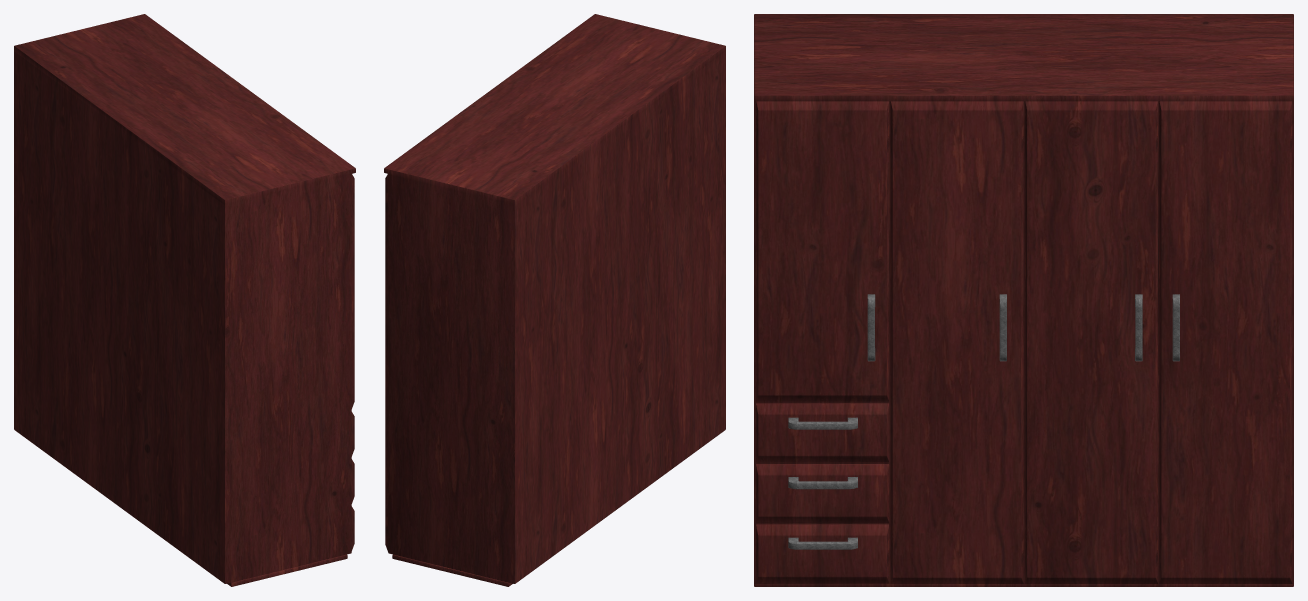
The model's file is closet.fbx.
The picture shows the model from 3 angles, left to right: view 1: azimuth 30°, elevation 25°; view 2: azimuth 150°, elevation 25°; view 3: azimuth 270°, elevation 25°; orthographic projection. The views are drawn at different scales.
Visible parts, largest first — view 1: Closet001; view 2: Closet001; view 3: Closet001, Closet001.001.
Boxes of the visible parts, left/top/right/bottom form: Closet001: left=14, top=14, right=355, bottom=586; Closet001: left=384, top=14, right=725, bottom=586; Closet001: left=754, top=14, right=1293, bottom=586; Closet001.001: left=788, top=294, right=1179, bottom=549.
Bounding box in the file's own units: 1463 × 3851 × 3791.
Materials: 2 (2 with a texture image).
